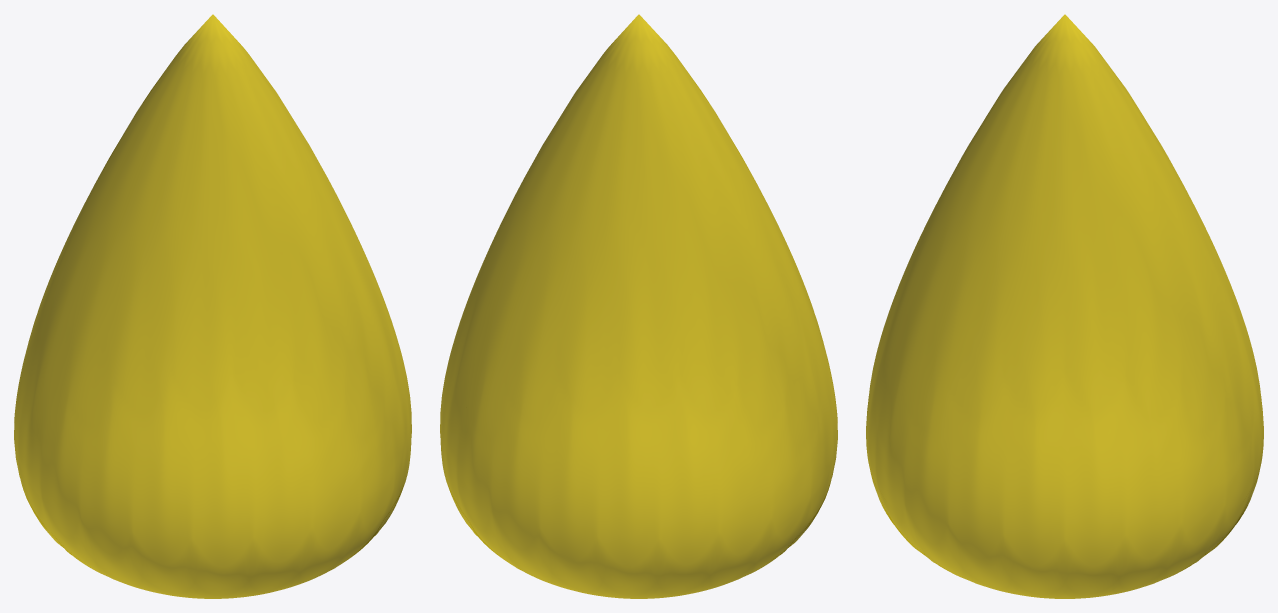
File: treeSapAsset.fbx
3 views of the same model, side by side, from view 1: azimuth 30°, elevation 25°; view 2: azimuth 150°, elevation 25°; view 3: azimuth 270°, elevation 25° (orthographic).
Visible parts, largest first — view 1: pCone3; view 2: pCone3; view 3: pCone3.
Part boxes in pixels (left/top/right/bottom): pCone3: left=14, top=14, right=411, bottom=598; pCone3: left=440, top=14, right=837, bottom=598; pCone3: left=866, top=14, right=1263, bottom=598.
Size of the model in its own units: 0.3229 by 0.5099 by 0.3229.
